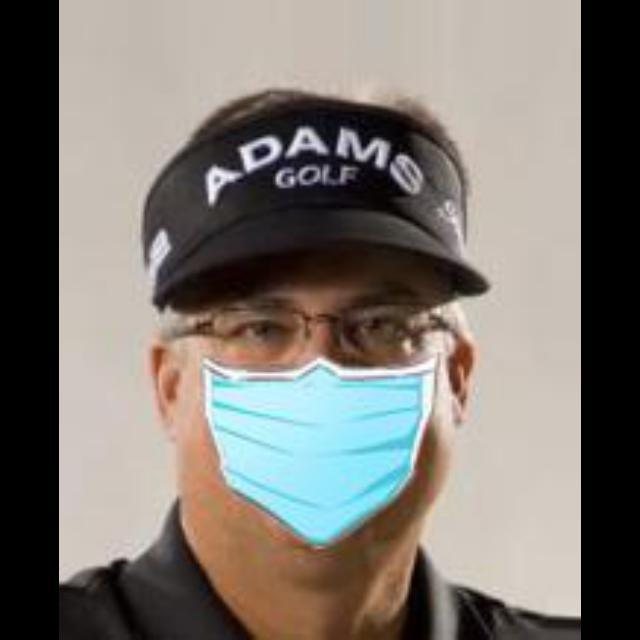suspicion: (128, 128, 528, 610)
